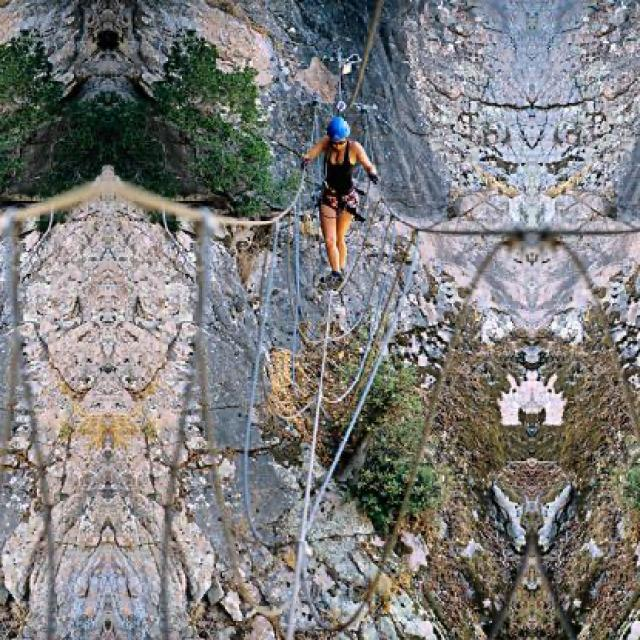con casco: (322, 104, 366, 154)
